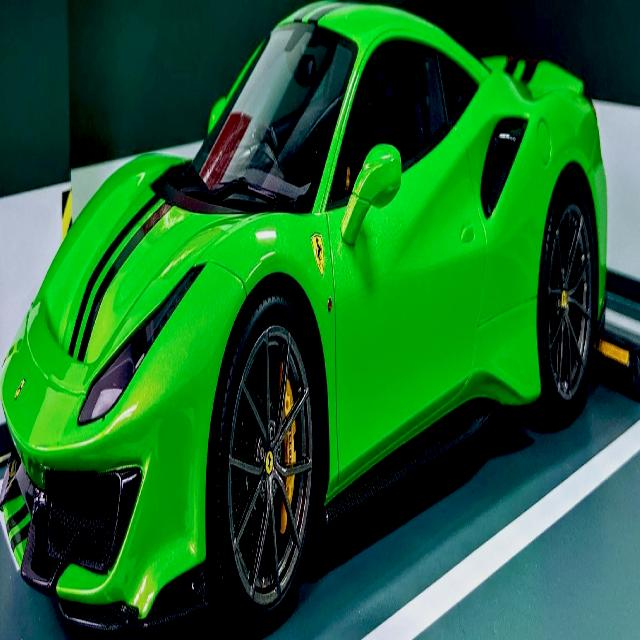green: (1, 4, 607, 640)
